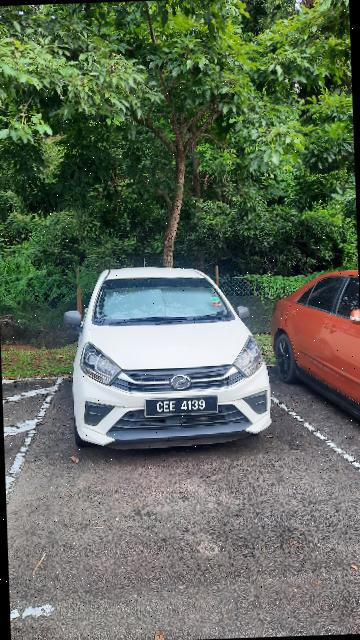License_Plate: (141, 396, 226, 421)
car: (58, 259, 277, 453), (263, 268, 360, 434)
